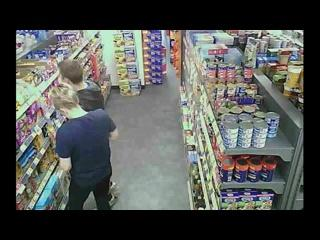shoplifting: (49, 83, 120, 210), (58, 59, 105, 112)
